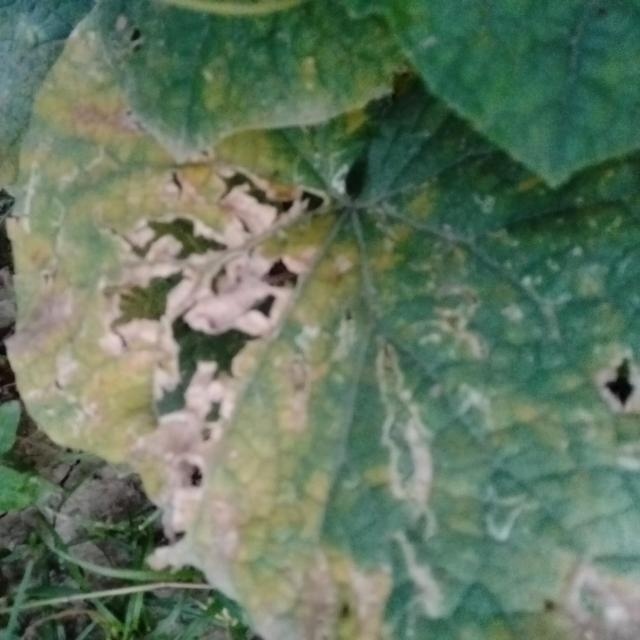cucumber_anthracnose: (17, 62, 635, 602)
